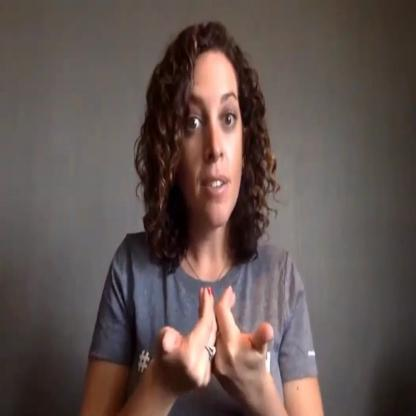HowAreYou: (162, 277, 276, 412)
